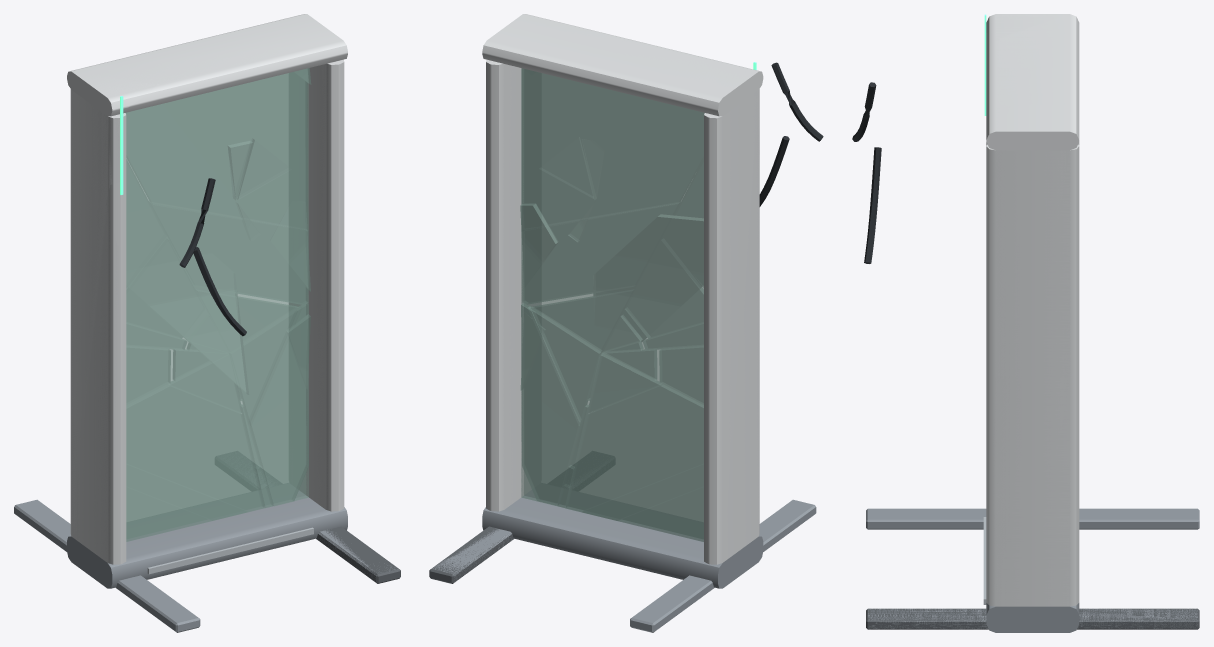
File: vta_cmp_cleanroom_panel_b.glb
The picture shows the model from 3 angles, left to right: view 1: azimuth 30°, elevation 25°; view 2: azimuth 150°, elevation 25°; view 3: azimuth 270°, elevation 25°; orthographic projection. The views are drawn at different scales.
Visible parts, largest first — view 1: mesh_light, mesh_intact, mesh_heavy; view 2: mesh_light, mesh_intact, mesh_heavy; view 3: mesh_heavy, mesh_light, mesh_intact.
Boxes of the visible parts, x1,y1,x2,y2 form: mesh_light: (14, 60, 398, 626); mesh_intact: (67, 14, 347, 564); mesh_heavy: (14, 14, 400, 632); mesh_light: (432, 60, 814, 629); mesh_intact: (489, 14, 763, 560); mesh_heavy: (429, 14, 823, 632); mesh_heavy: (852, 14, 1199, 632); mesh_light: (867, 142, 1197, 629); mesh_intact: (986, 14, 1078, 150).
Size of the model in its own units: 0.6 by 1.2 by 0.7495.
